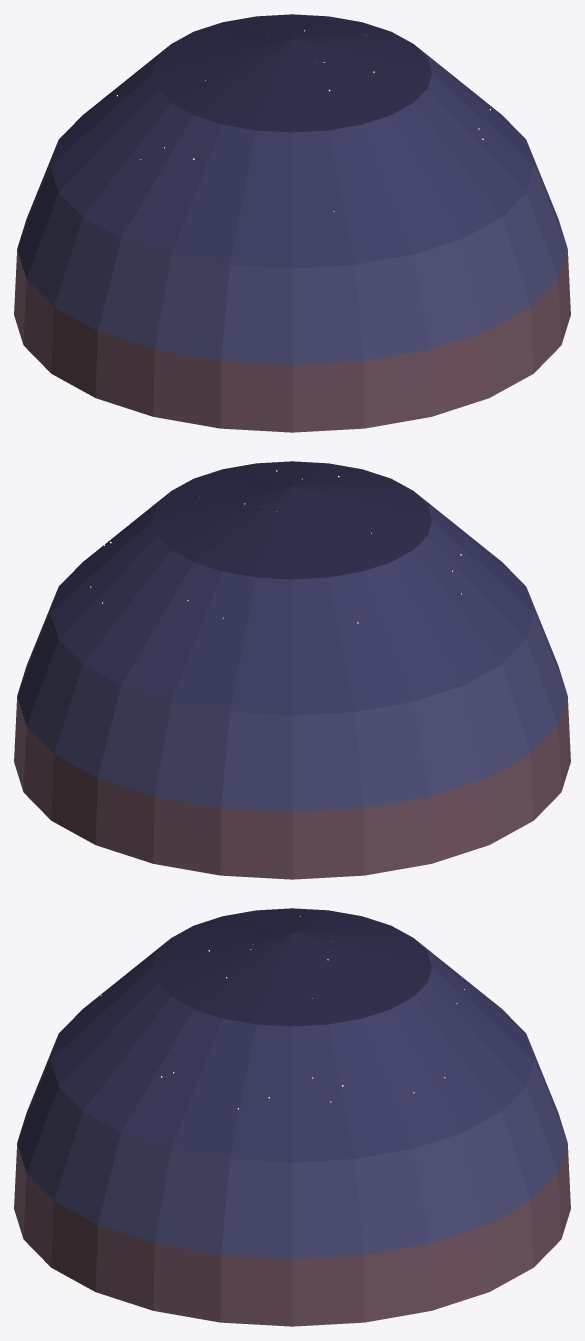
The model's file is sky_ocean_night.glb.
3 views of the same model, one above another, from view 1: azimuth 30°, elevation 25°; view 2: azimuth 150°, elevation 25°; view 3: azimuth 270°, elevation 25° (orthographic).
Parts seen in each view (by area): view 1: skyband2, skyband1, skyband0, skyband3; view 2: skyband2, skyband1, skyband0, skyband3; view 3: skyband2, skyband1, skyband0, skyband3.
Boxes of the visible parts, x1,y1,x2,y2 form: skyband2: (50,44,534,268); skyband1: (17,142,567,365); skyband0: (14,249,570,432); skyband3: (152,14,432,132); skyband2: (50,491,534,715); skyband1: (17,589,567,812); skyband0: (14,696,570,879); skyband3: (152,461,432,579); skyband2: (50,938,534,1162); skyband1: (17,1036,567,1259); skyband0: (14,1143,570,1326); skyband3: (152,908,432,1026).
Size of the model in its own units: 179 by 97.84 by 179.
